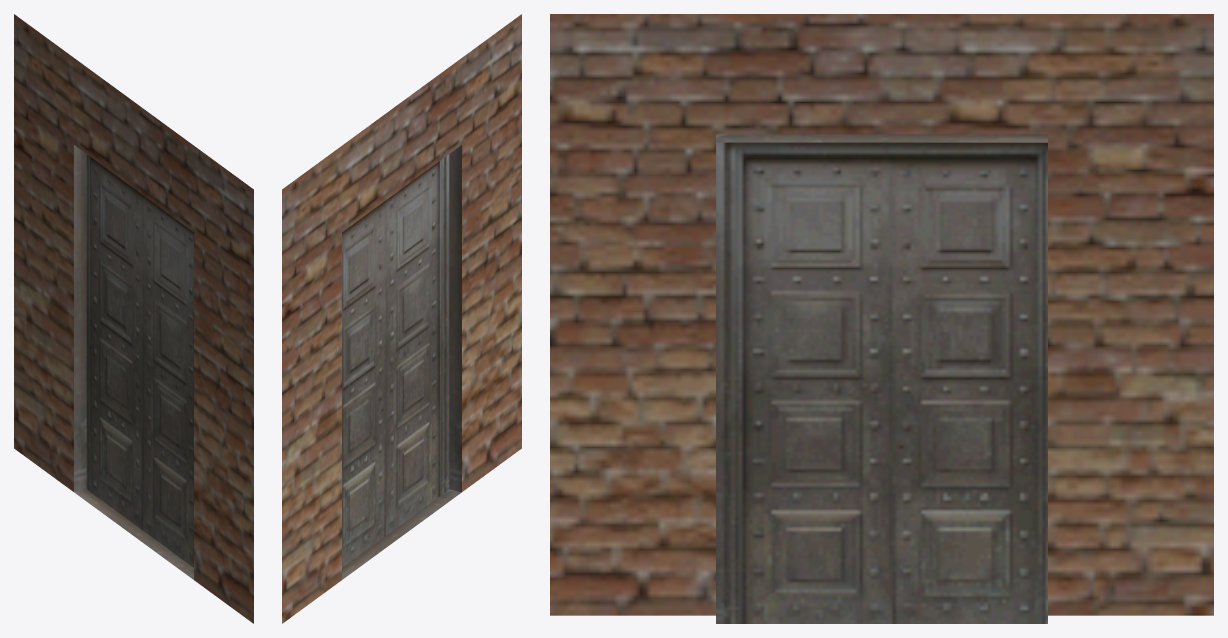
File: Urban_BrickWallMetalDoorIndent_Model.fbx
3 renders of one model, left to right at view 1: azimuth 30°, elevation 25°; view 2: azimuth 150°, elevation 25°; view 3: azimuth 270°, elevation 25°, orthographic. The views are drawn at different scales.
Visible parts, largest first — view 1: Urban_BrickWallMetalDoorIndent_Mesh; view 2: Urban_BrickWallMetalDoorIndent_Mesh; view 3: Urban_BrickWallMetalDoorIndent_Mesh.
Part boxes in pixels (x1,y1,x2,y2): Urban_BrickWallMetalDoorIndent_Mesh: (14, 14, 253, 623); Urban_BrickWallMetalDoorIndent_Mesh: (282, 14, 521, 623); Urban_BrickWallMetalDoorIndent_Mesh: (550, 14, 1213, 623).
Size of the model in its own units: 0.0635 by 2.1 by 2.1.
